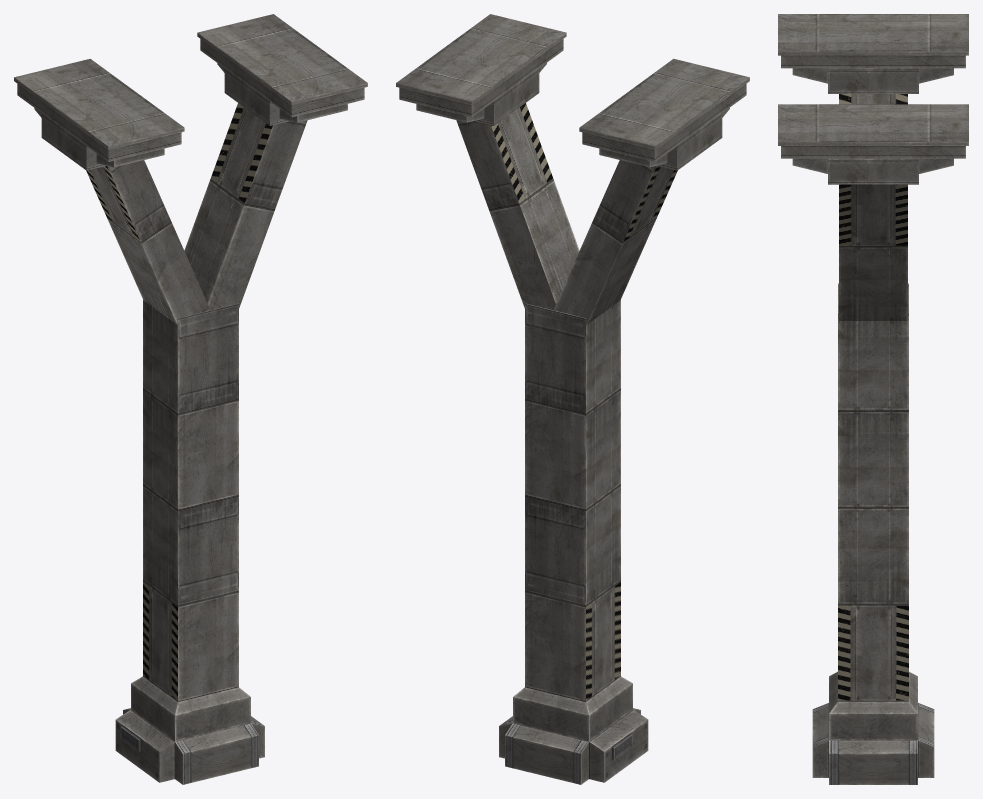
Rendered from CP_Metro_Colon_02.fbx.
The picture shows the model from 3 angles, left to right: view 1: azimuth 30°, elevation 25°; view 2: azimuth 150°, elevation 25°; view 3: azimuth 270°, elevation 25°; orthographic projection.
Parts seen in each view (by area): view 1: CP_Metro_Colon_02; view 2: CP_Metro_Colon_02; view 3: CP_Metro_Colon_02.
Boxes of the visible parts, x1=… form: CP_Metro_Colon_02: x1=14, y1=14, x2=367, y2=784; CP_Metro_Colon_02: x1=396, y1=14, x2=749, y2=784; CP_Metro_Colon_02: x1=778, y1=14, x2=968, y2=784.
Size of the model in its own units: 567 by 1405 by 357.
